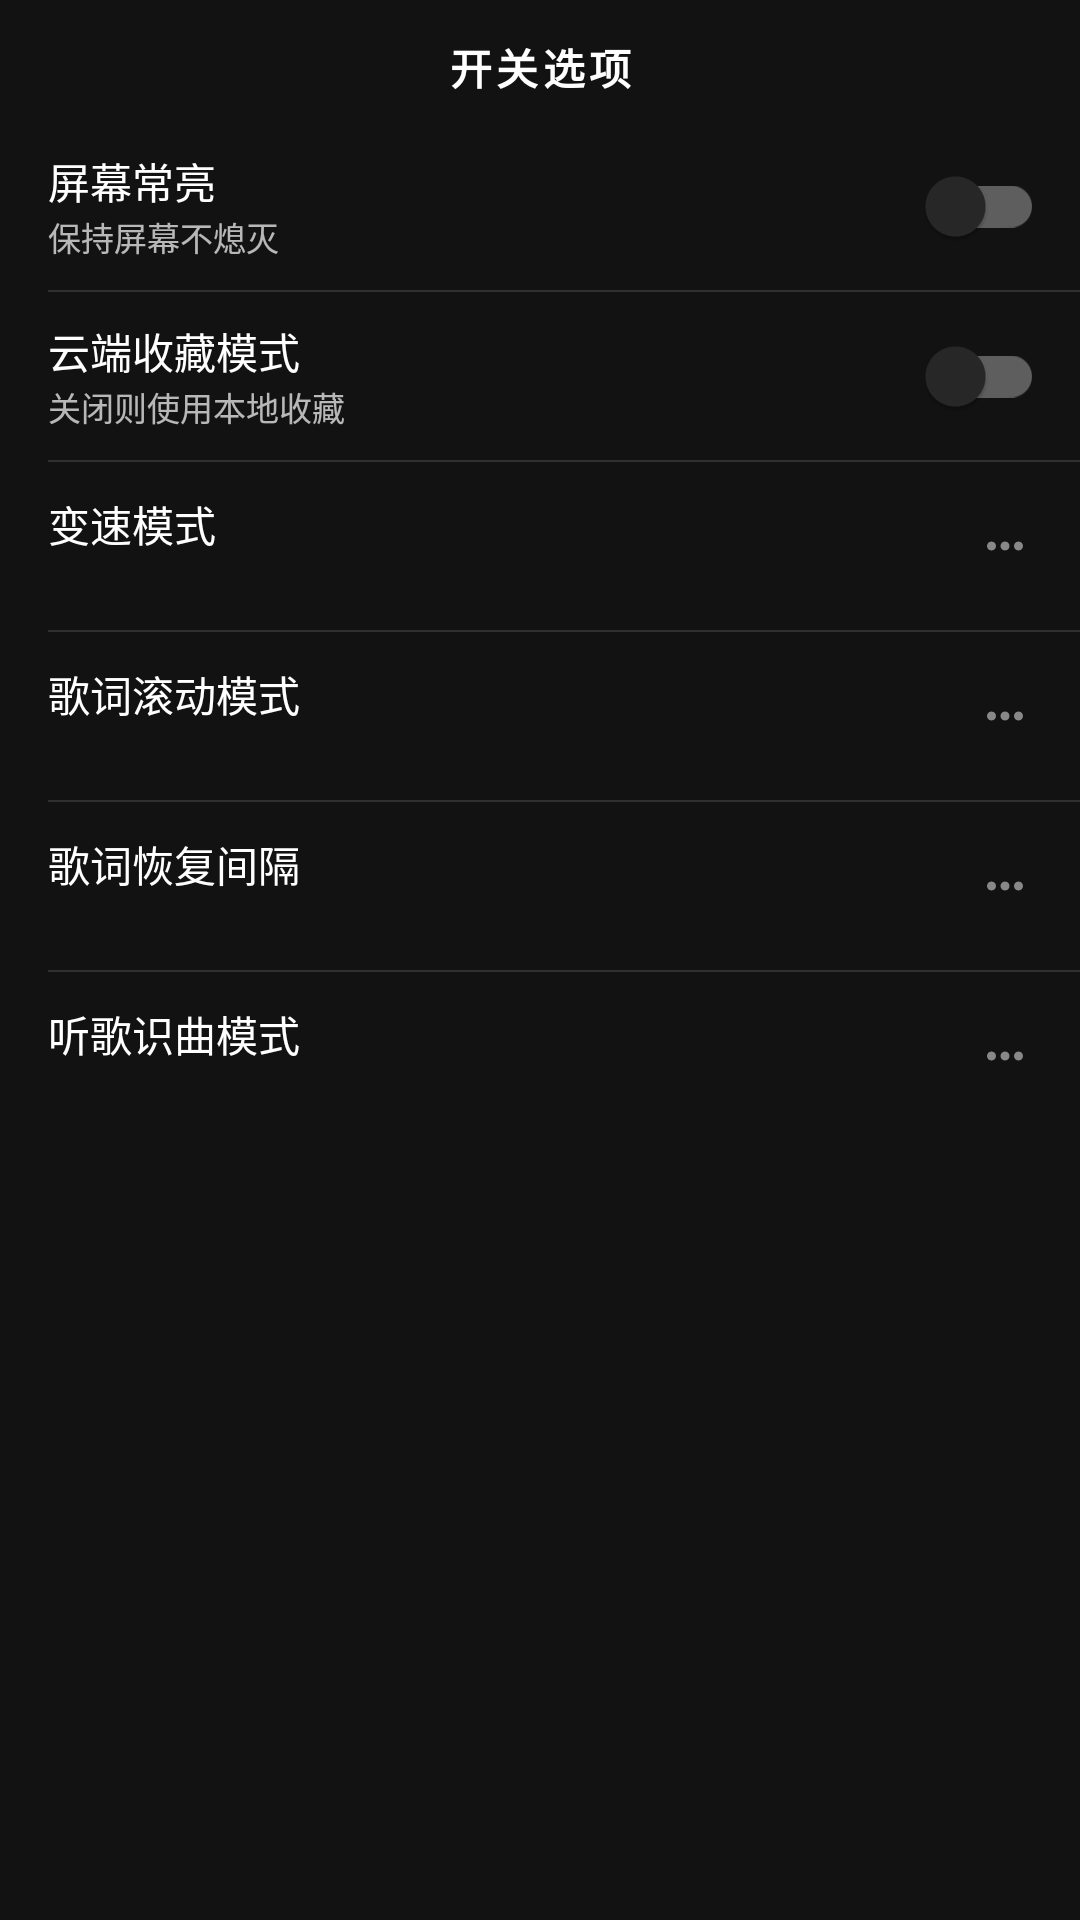

Named icons in this screenshot (1080px×1920px) and their centers, point (x, y):
more horiz: point (1005, 546), point (1005, 716), point (1005, 886), point (1005, 1056)
